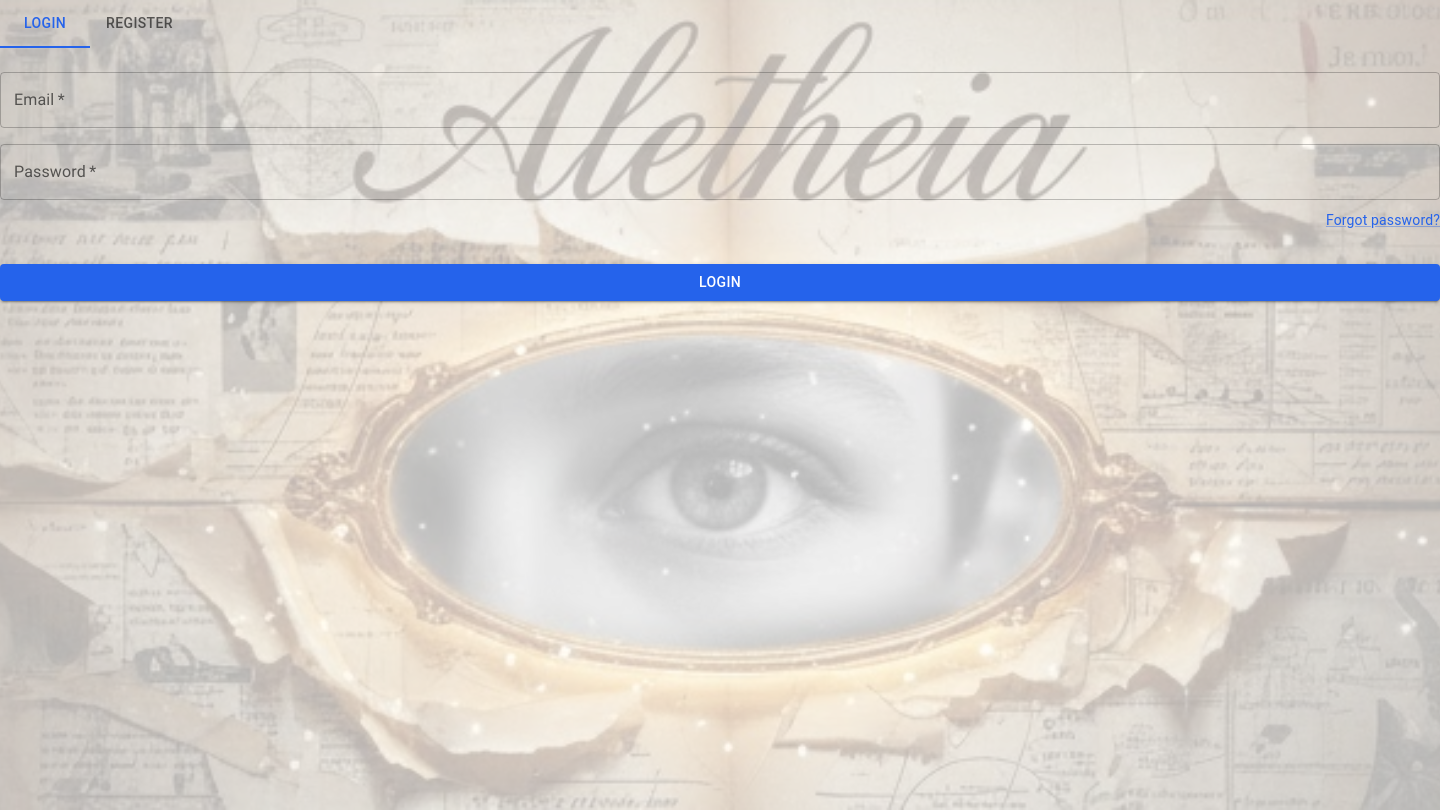
Test case: LoginForm Error Paths › should handle registration with email already exists error
// Switch to register mode
Click the tab "Register".
click(140, 24)  # box [90,0,189,48]
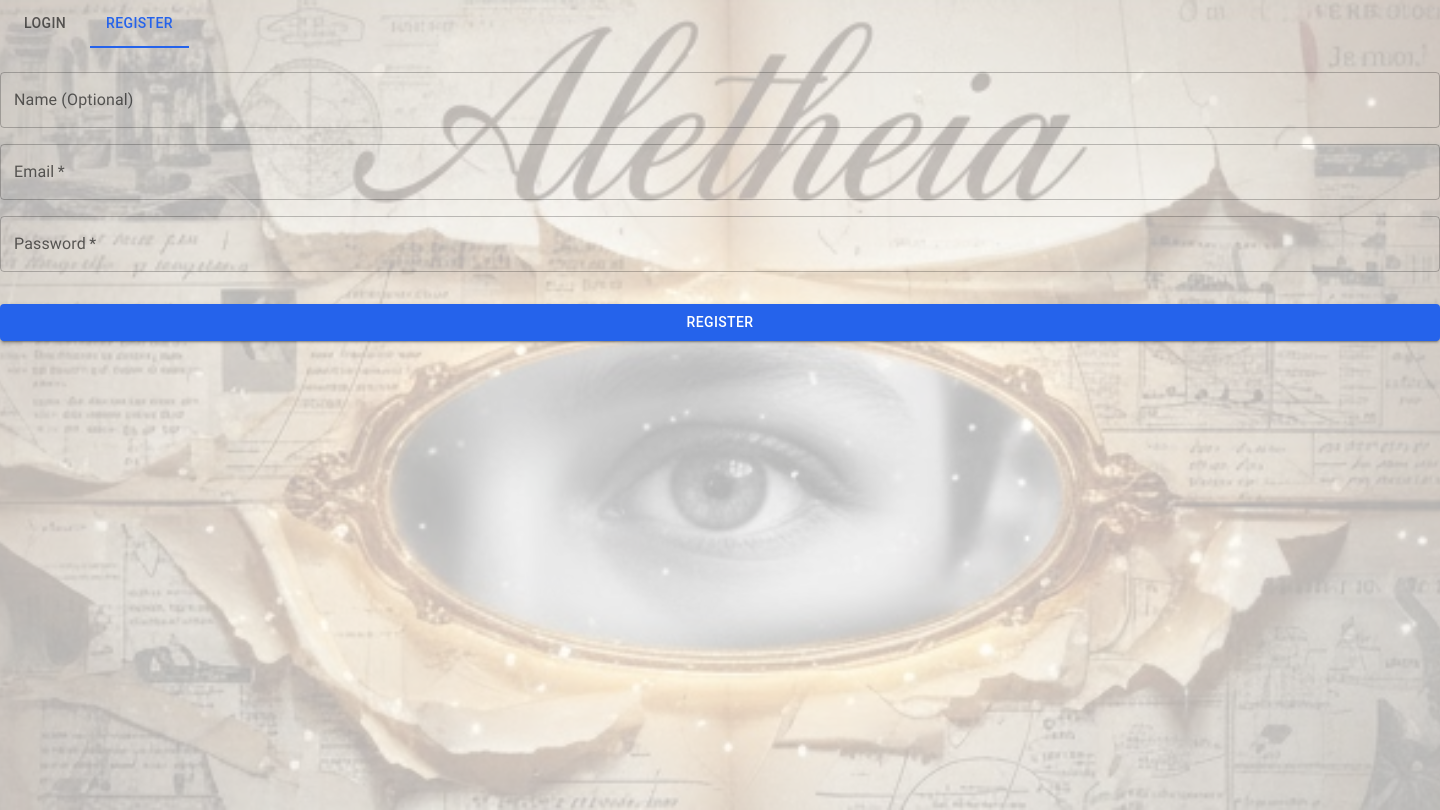
Type "existing@example.com" into the field labelled "Email *".
click(720, 172); type("existing@example.com")  # box [0,144,1439,200]
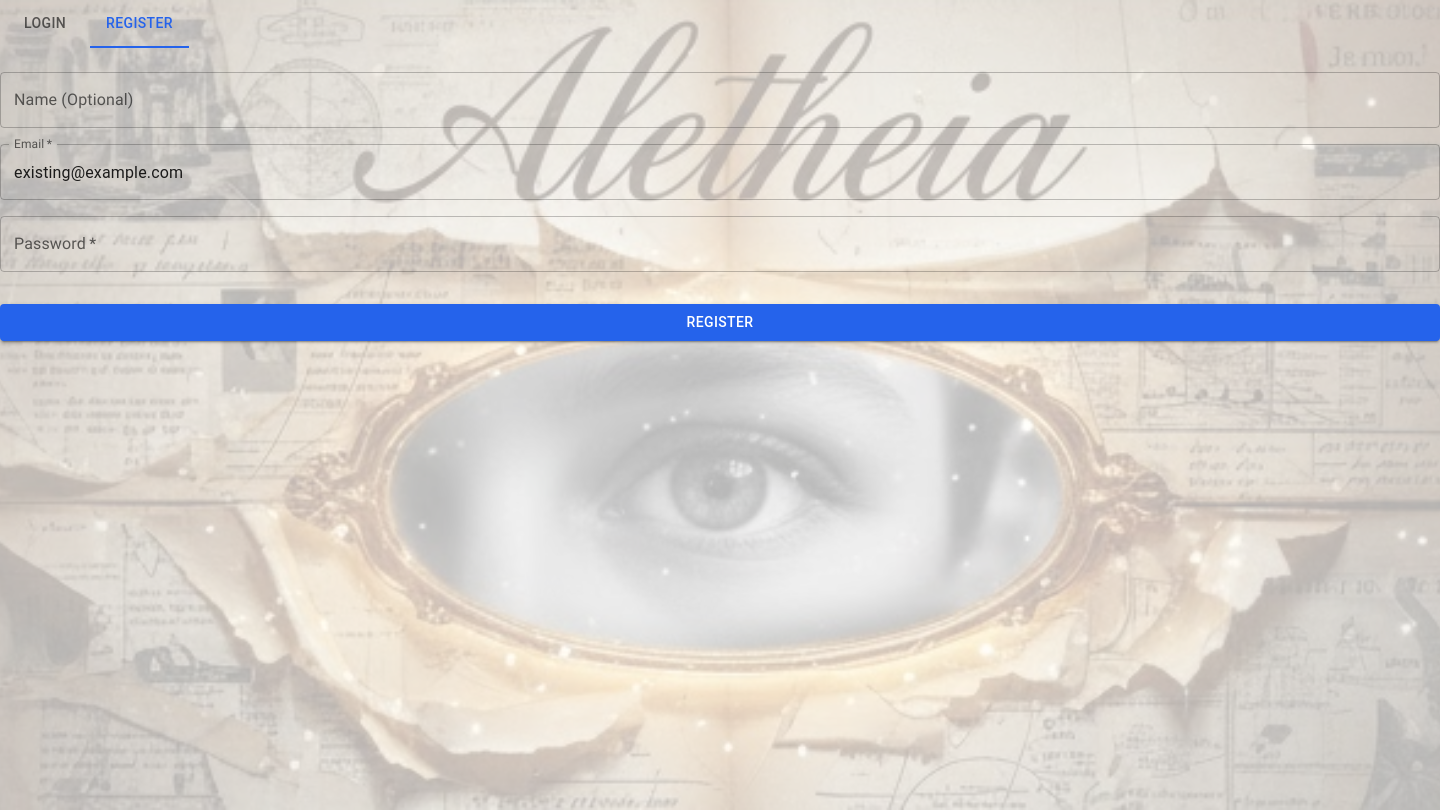
Type "ValidPass123!" into the password field labelled "Password *".
click(720, 244); type("ValidPass123!")  # box [0,216,1439,272]
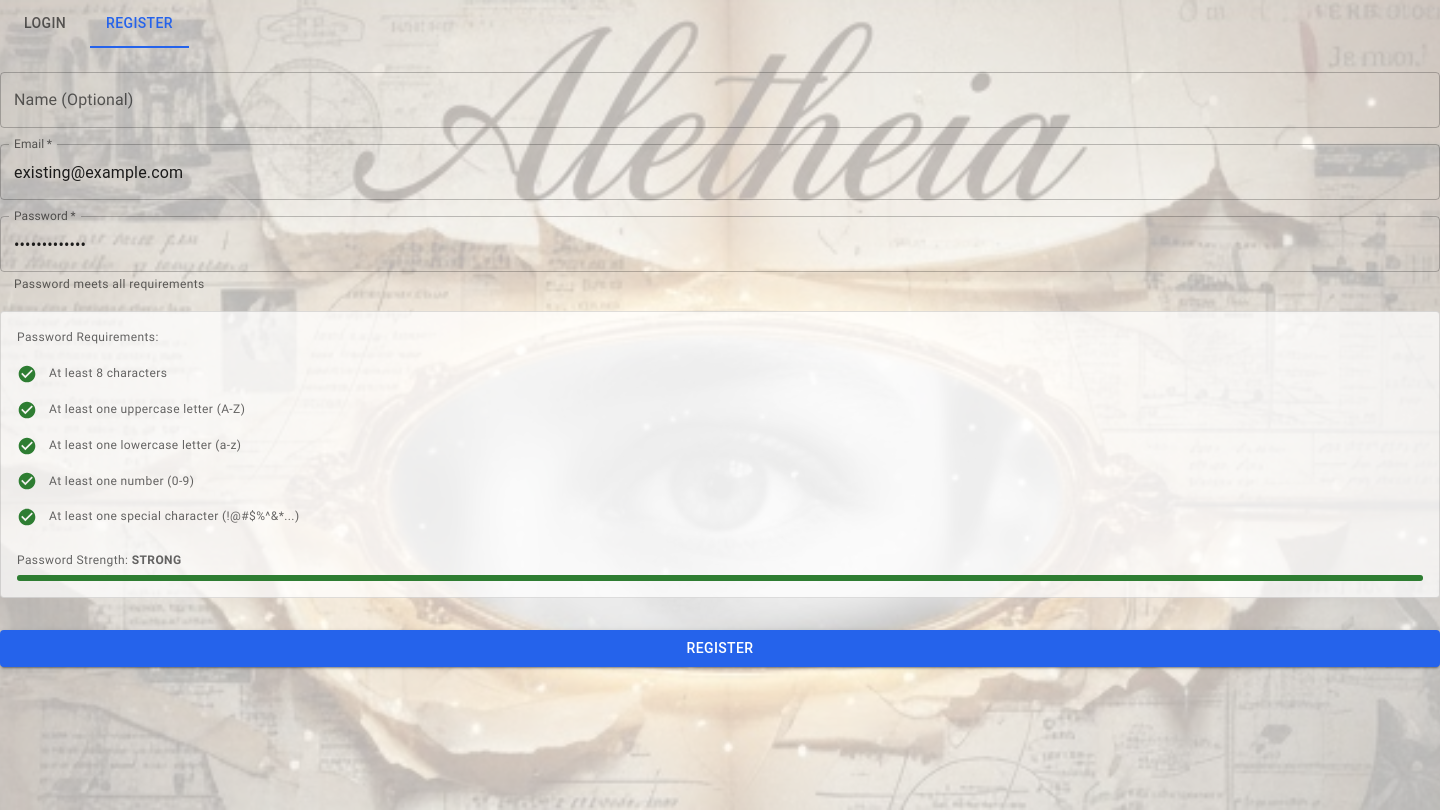
Click the button "Register".
click(720, 649)  # box [0,630,1439,667]
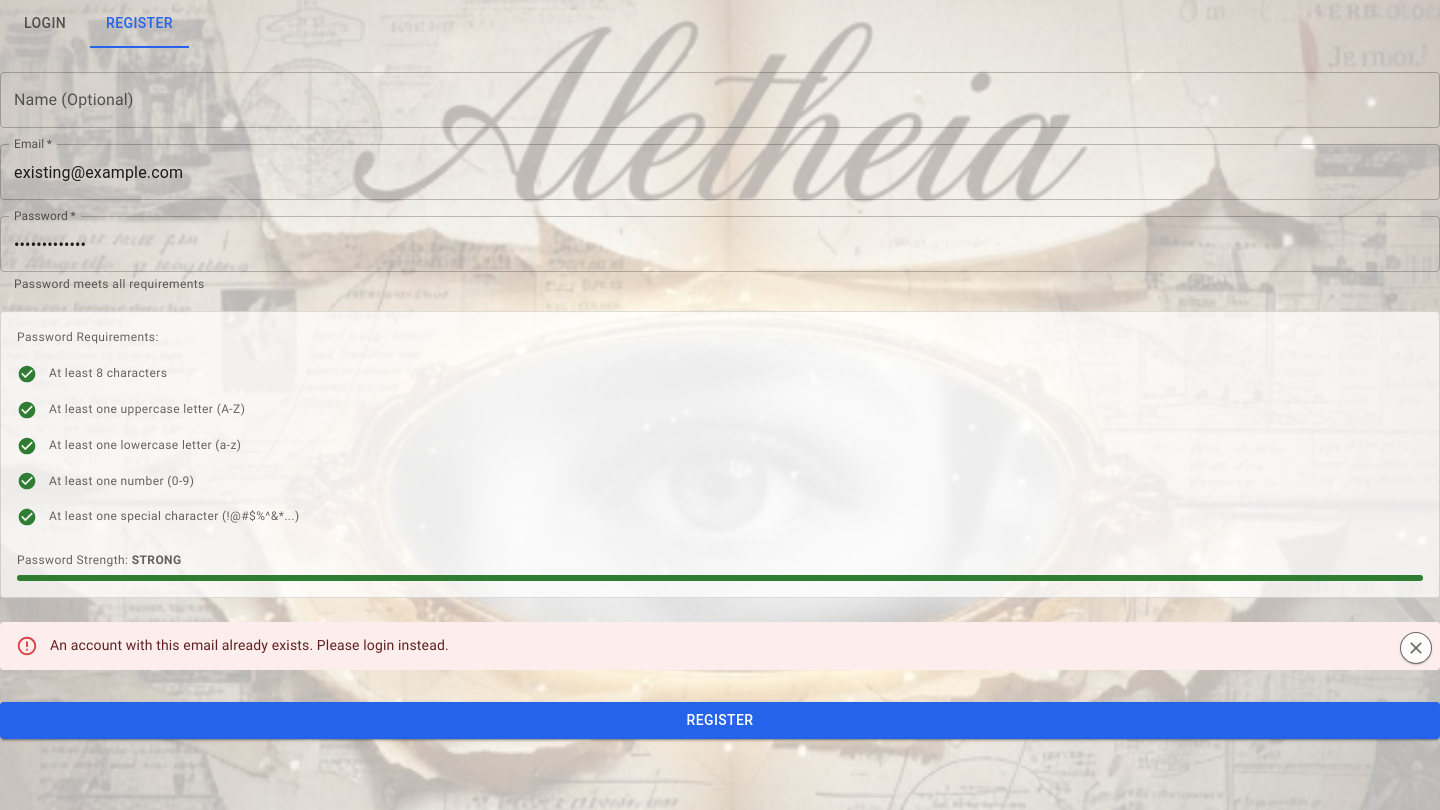
Result: the text "email already exists" is shown at [50,638,449,654]
